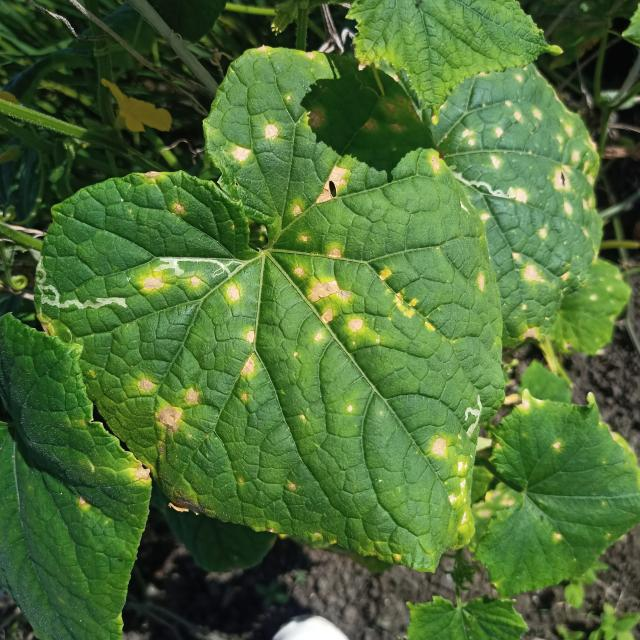disease_cucumber: (124, 89, 495, 523), (451, 66, 604, 299)
